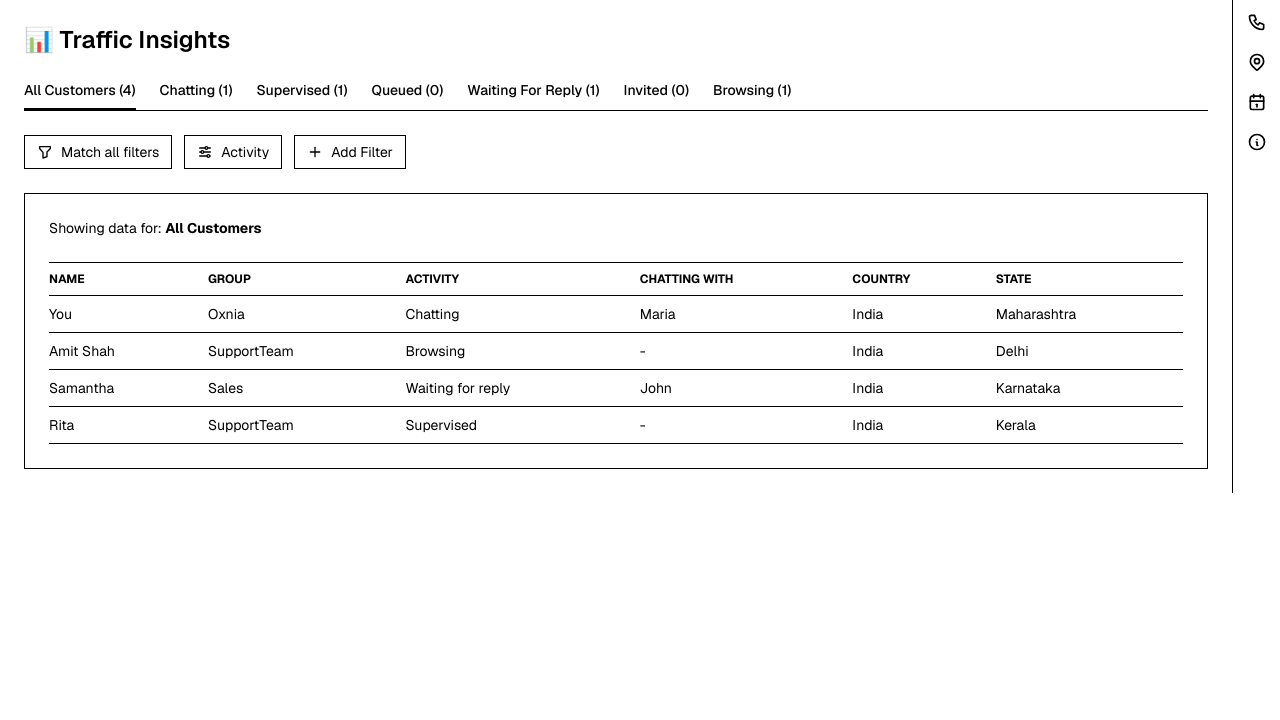
TrafficView › opens the contact profile when a row is clicked
Click the row "You Oxnia Chatting Maria India Maharashtra" at (616, 314), box [49,296,1183,332]
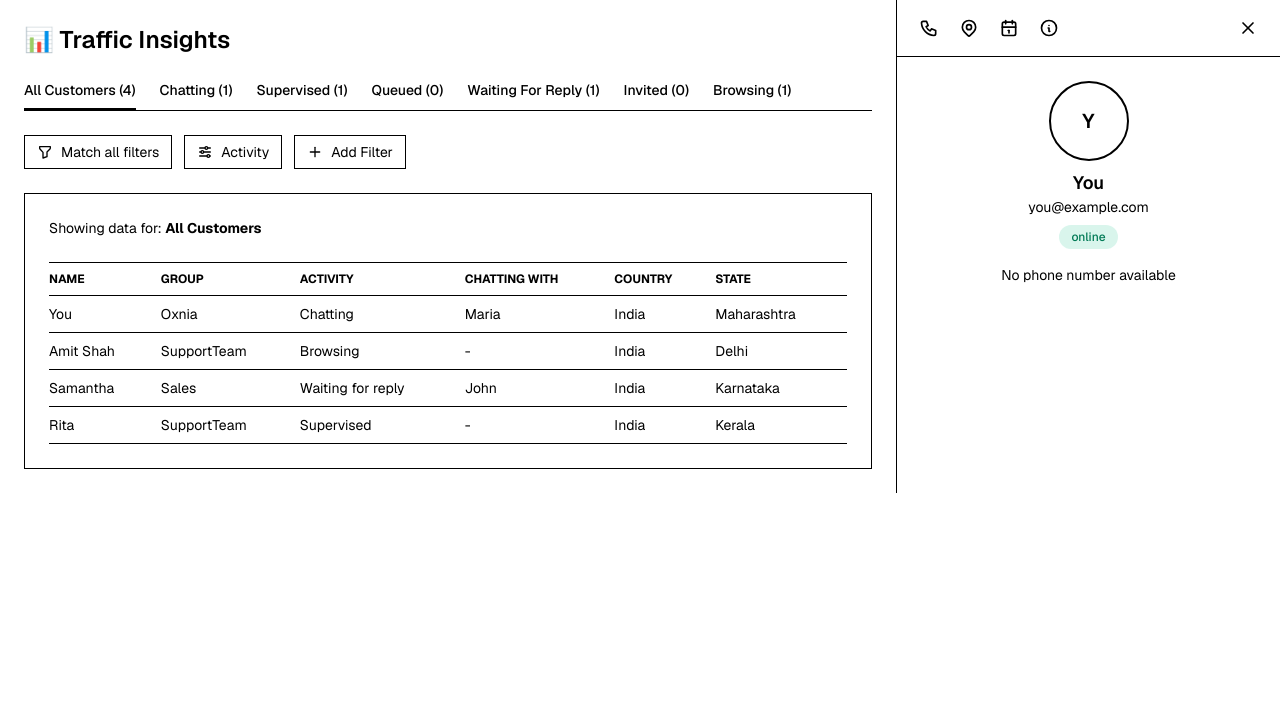
Check: the text "You" is shown 2 times, box [49,296,161,332]; [1073,169,1104,197]
Check: the text "you@example.com" is shown, box [1028,197,1149,217]
Check: the text "online" is shown, box [1059,225,1118,249]
